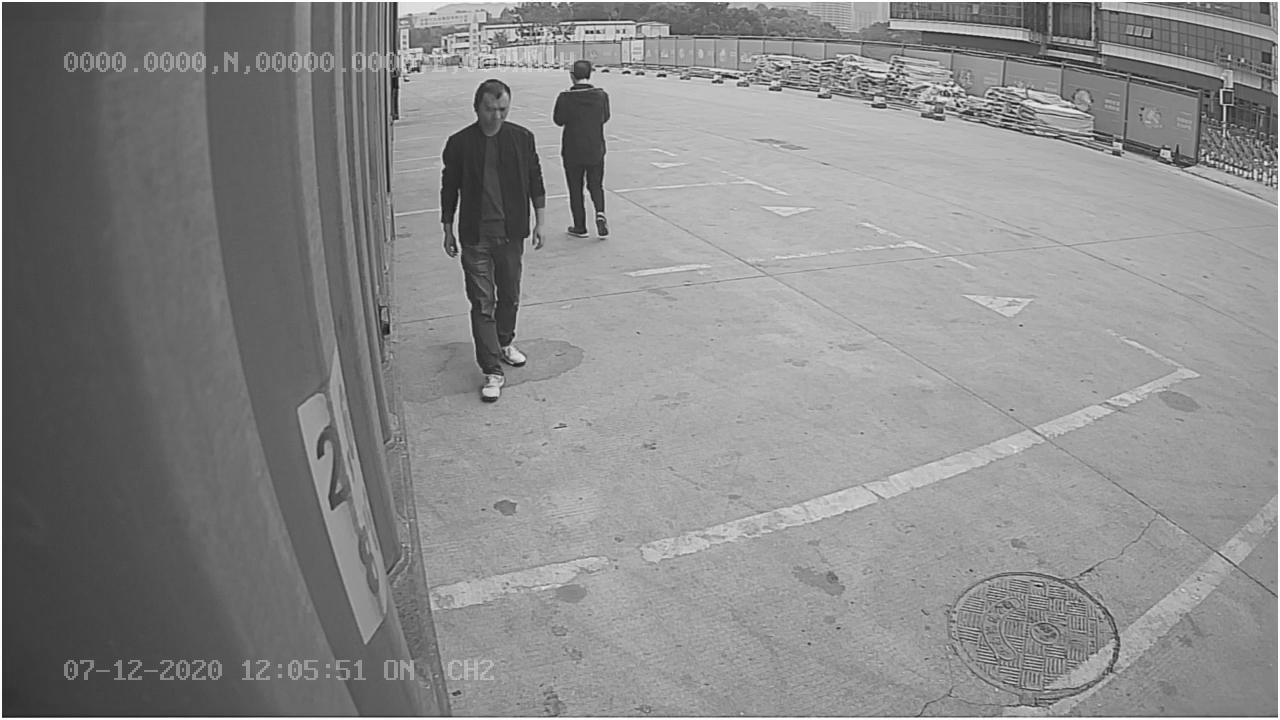person: (440, 76, 553, 397)
